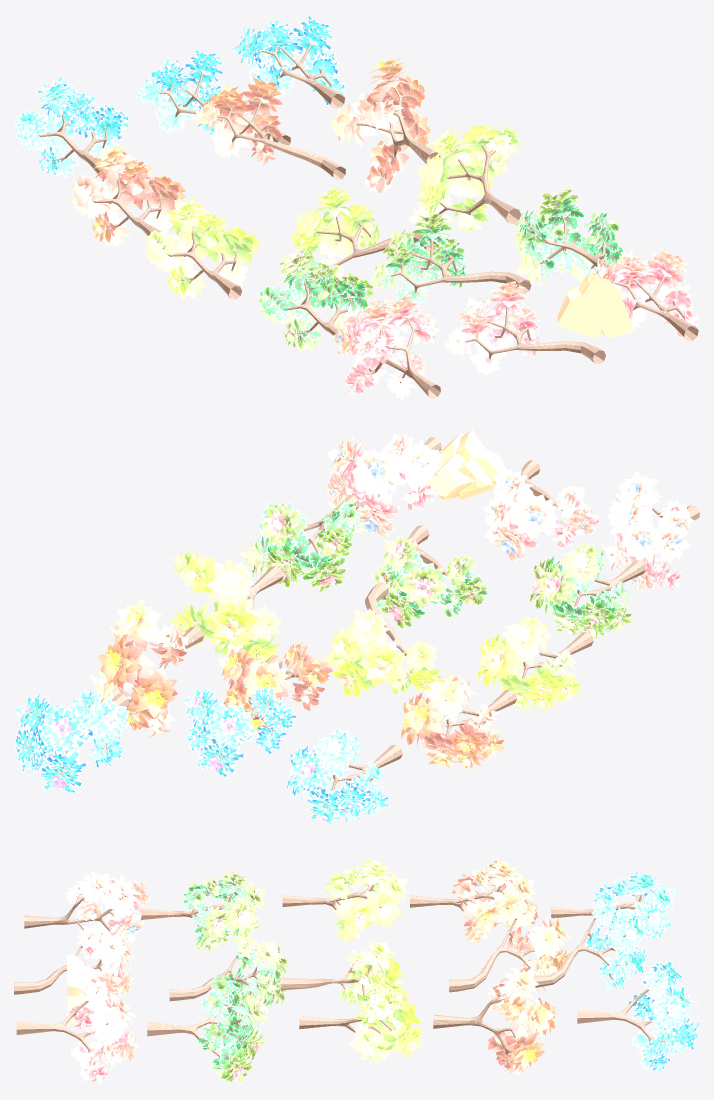
File: Stylized Hand Painted trees.fbx
The picture shows the model from 3 angles, top to bottom: view 1: azimuth 30°, elevation 25°; view 2: azimuth 150°, elevation 25°; view 3: azimuth 270°, elevation 25°; orthographic projection. The views are drawn at different scales.
Parts seen in each view (by area): view 1: TRS3, TRW1, TRS4, TRW3, TRW4, TRS2, TRW5, TRW2, TRS5, TRT1, TRT2, TRT3 (+4 smaller); view 2: TRS5, TRS4, TRS3, TRS1, TRS2, TRT4, TRW1, TRT1, TRW5, TRW2, TRW4, TRT2 (+4 smaller); view 3: TRS1, TRS5, TRS2, TRS4, TRW3, TRS3, TRW2, TRW4, TRW1, TRT5, TRT3, TRW5 (+4 smaller).
Part boxes in pixels (box(x1,y1,x2,y2)): TRS3: box(407, 124, 521, 236); TRW1: box(332, 295, 440, 400); TRS4: box(331, 58, 441, 193); TRW3: box(145, 197, 260, 299); TRW4: box(70, 144, 185, 246); TRS2: box(514, 189, 626, 286); TRW5: box(14, 76, 130, 178); TRW2: box(258, 248, 374, 351); TRS5: box(229, 14, 346, 108); TRT1: box(444, 280, 605, 375); TRT2: box(369, 212, 531, 308); TRT3: box(194, 77, 345, 180); TRS5: box(14, 690, 129, 792); TRS4: box(89, 598, 204, 740); TRS3: box(168, 550, 283, 664); TRS1: box(326, 433, 441, 536); TRS2: box(237, 494, 361, 594); TRT4: box(323, 582, 442, 697); TRW1: box(601, 470, 699, 592); TRT1: box(483, 460, 599, 562); TRW5: box(286, 728, 402, 825); TRW2: box(529, 542, 645, 640); TRW4: box(401, 673, 516, 771); TRT2: box(372, 525, 488, 629); TRS1: box(16, 971, 138, 1084); TRS5: box(577, 960, 699, 1073); TRS2: box(147, 973, 269, 1084); TRS4: box(433, 968, 555, 1074); TRW3: box(282, 856, 408, 942); TRS3: box(299, 972, 421, 1063); TRW2: box(140, 867, 266, 951); TRW4: box(410, 857, 535, 943); TRW1: box(24, 871, 150, 952); TRT5: box(532, 899, 650, 991); TRT3: box(449, 899, 571, 994); TRW5: box(551, 867, 676, 950).
Size of the model in its own units: 23.79 by 7.4 by 41.47.
